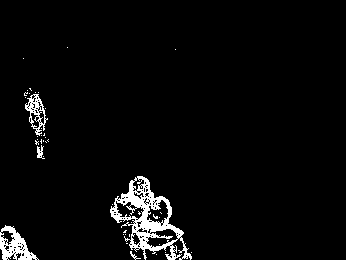person: (129, 196, 192, 260), (106, 176, 155, 239), (22, 88, 51, 159)
